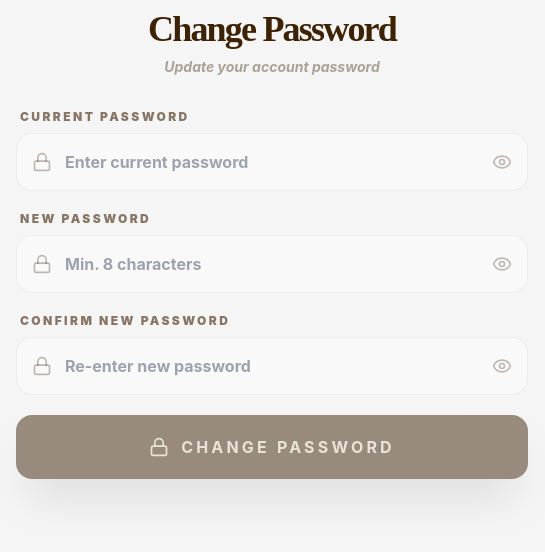
Scenario: PasswordPage › shows password strength meter when typing new password
Type "weak" into the password field with placeholder "Min. 8 characters" at (272, 264), box [16,235,528,293]
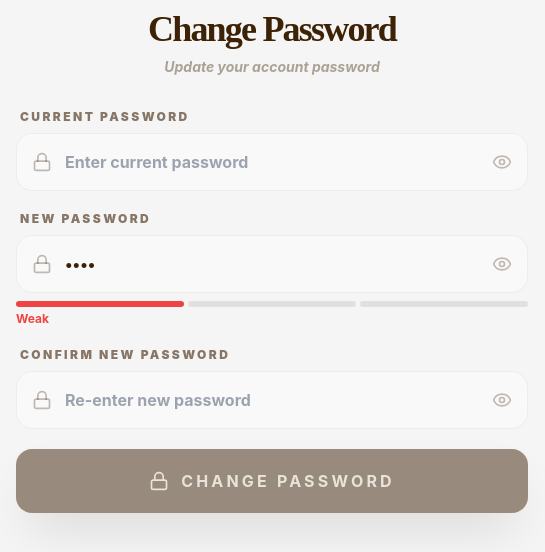
Now the text "Weak" is shown, box [16,311,49,326]
